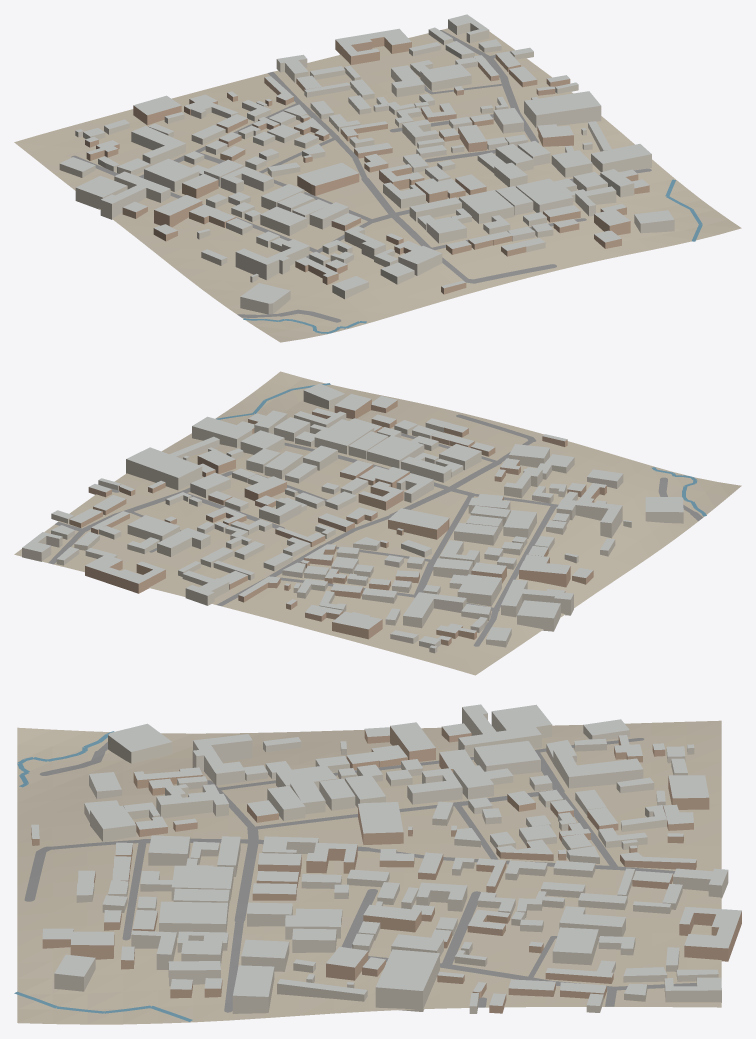
Rendered from bolak_6_1.glb.
3 renders of one model, top to bottom at view 1: azimuth 30°, elevation 25°; view 2: azimuth 150°, elevation 25°; view 3: azimuth 270°, elevation 25°, orthographic. The views are drawn at different scales.
Visible parts, largest first — view 1: Yer_Tuproq-col, Tom_Shifer, Devor_Suvoq-col, Devor_Gisht-col, Yol_Mahalla-col, Suv; view 2: Yer_Tuproq-col, Tom_Shifer, Devor_Suvoq-col, Devor_Gisht-col, Yol_Mahalla-col, Suv; view 3: Yer_Tuproq-col, Tom_Shifer, Devor_Suvoq-col, Devor_Gisht-col, Yol_Mahalla-col, Suv.
Part boxes in pixels (box(x1,y1,x2,y2)): Yer_Tuproq-col: box(14, 28, 741, 342); Tom_Shifer: box(60, 14, 673, 303); Devor_Suvoq-col: box(59, 19, 674, 314); Devor_Gisht-col: box(85, 37, 649, 294); Yol_Mahalla-col: box(71, 30, 651, 322); Suv: box(243, 179, 702, 333); Yer_Tuproq-col: box(14, 371, 741, 675); Tom_Shifer: box(22, 383, 683, 648); Devor_Suvoq-col: box(22, 390, 683, 653); Devor_Gisht-col: box(69, 399, 606, 645); Yol_Mahalla-col: box(48, 414, 702, 646); Suv: box(216, 383, 706, 516); Yer_Tuproq-col: box(17, 720, 721, 1024); Tom_Shifer: box(31, 704, 741, 1006); Devor_Suvoq-col: box(54, 707, 728, 1013); Devor_Gisht-col: box(31, 726, 741, 1013); Yol_Mahalla-col: box(24, 738, 696, 1012); Suv: box(14, 731, 192, 1021).
Size of what is drawn, in the model's own units: 415 by 25.46 by 413.
